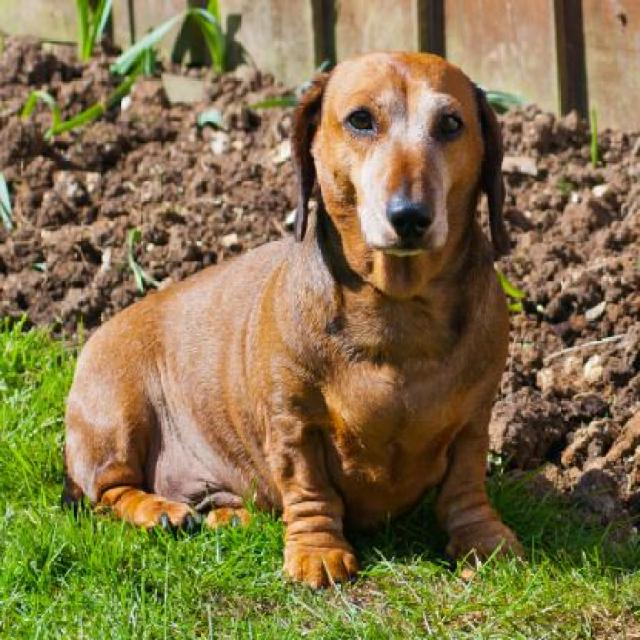Dog: (56, 49, 526, 594)
